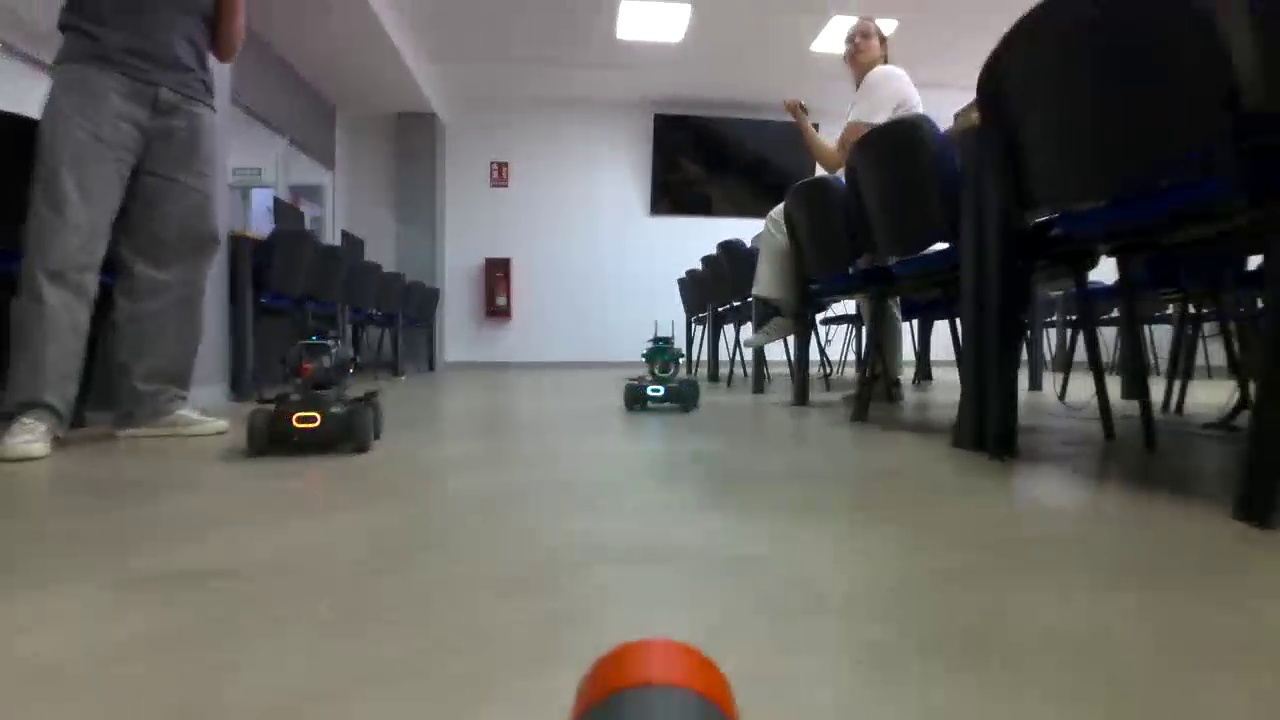robot: (248, 362, 382, 470), (623, 352, 698, 430)
